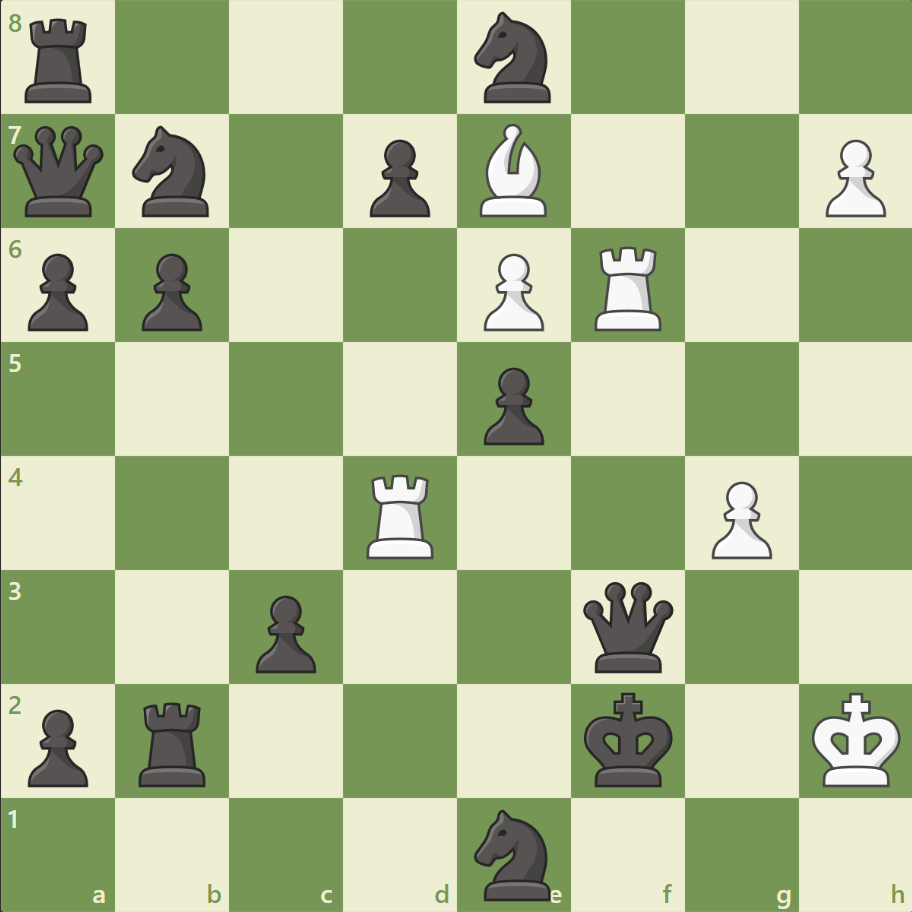B: (471, 120, 555, 222)
K: (806, 685, 906, 793)
P: (474, 246, 549, 337), (701, 473, 776, 564), (815, 132, 889, 223)
R: (587, 239, 670, 336), (360, 466, 442, 563)
k: (579, 685, 679, 793)
n: (124, 121, 222, 223), (465, 7, 562, 110), (465, 802, 562, 904)
p: (20, 246, 95, 337), (133, 246, 208, 337), (474, 359, 549, 450), (247, 586, 322, 677), (20, 700, 95, 791), (361, 132, 435, 223)
q: (10, 122, 109, 222), (578, 576, 677, 676)
r: (19, 12, 102, 109), (133, 693, 215, 790)
